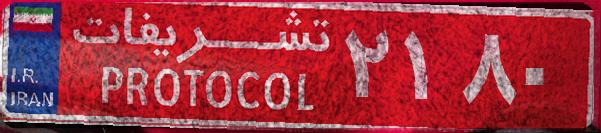0: (520, 20, 580, 115)
1: (400, 20, 460, 115)
2: (340, 20, 400, 115)
8: (460, 20, 520, 115)
تشریفات: (60, 8, 340, 125)
